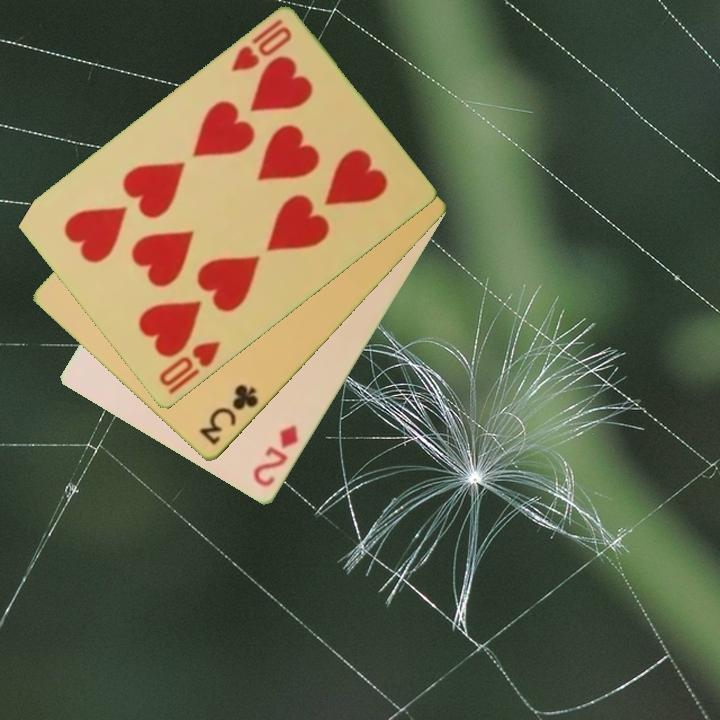10h: (155, 338, 224, 398), (227, 16, 295, 76)
2d: (249, 422, 301, 491)
3c: (196, 381, 262, 449)
